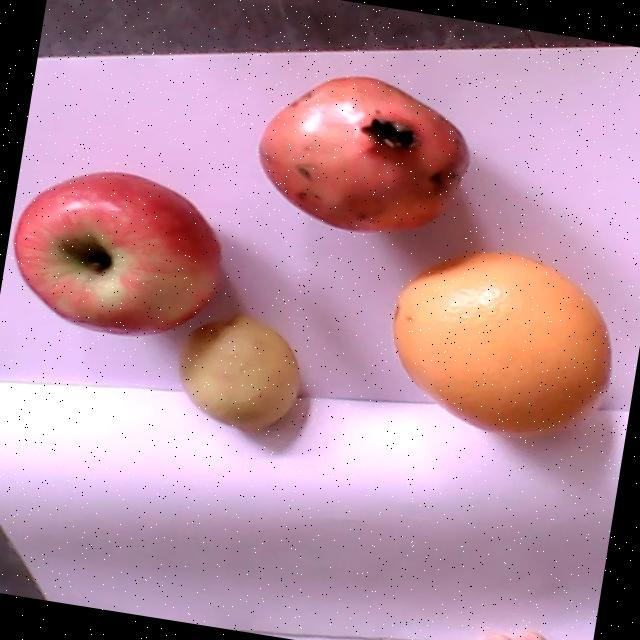apple: (13, 168, 221, 338)
lemon: (176, 313, 299, 431)
orange: (390, 249, 611, 438)
pomegranate: (261, 76, 469, 231)
